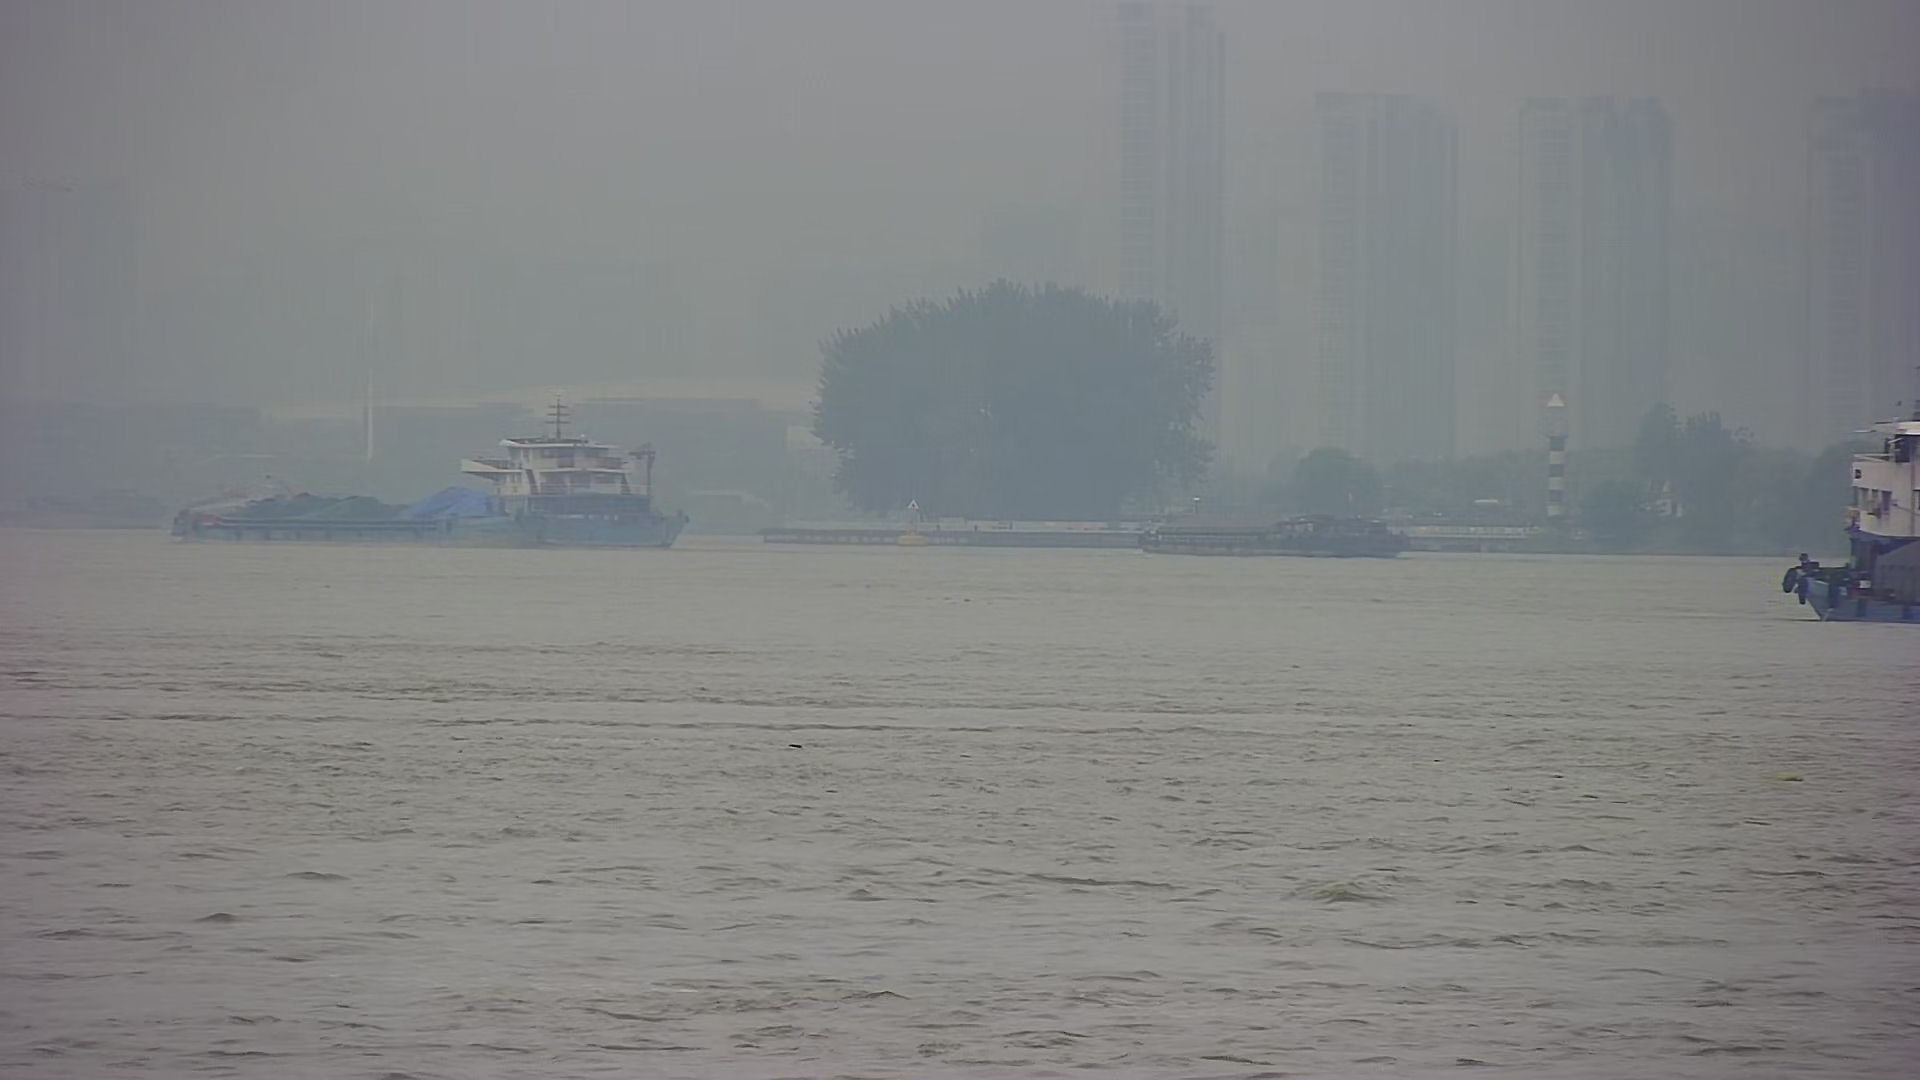ship: (169, 384, 713, 564), (1121, 495, 1435, 562)
